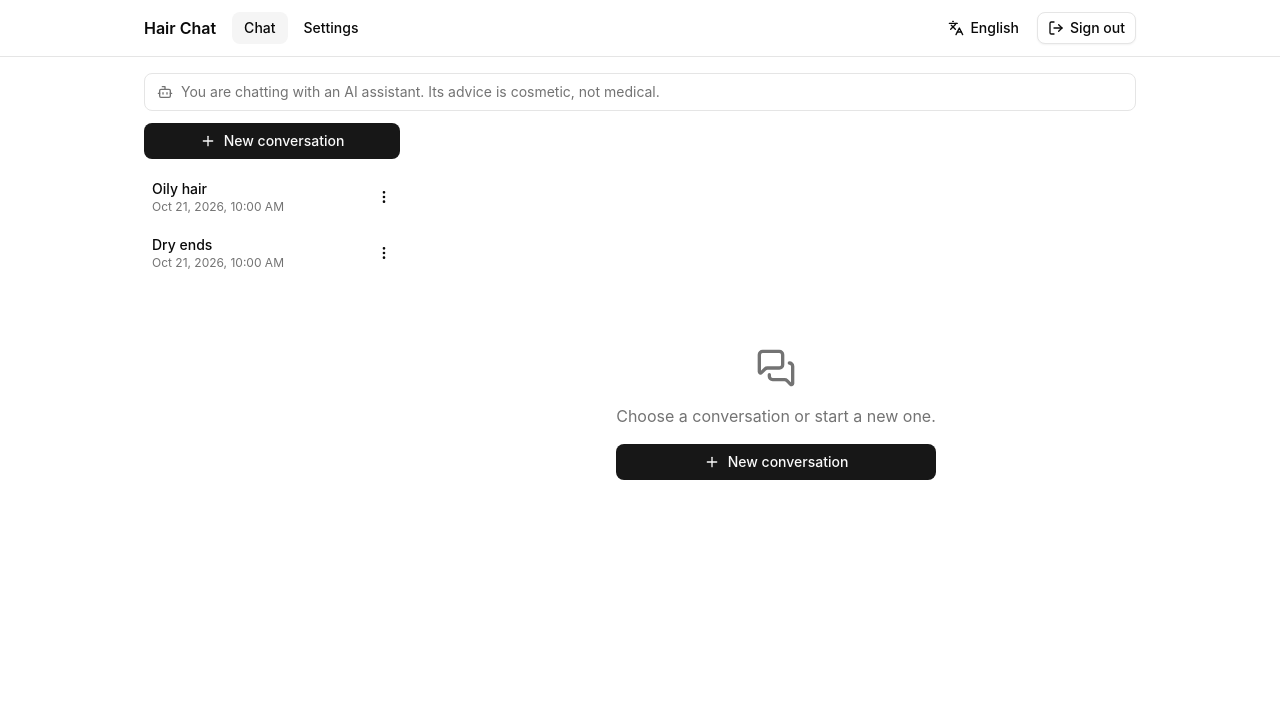
Test: delete a conversation › removes it from the list before the server answers
Expected: the link "Oily hair Oct 21, 2026, 10:00 AM" is shown, x1=152 y1=180 x2=284 y2=214
Click the button named "Actions for “Oily hair”": (384, 197) x1=368 y1=181 x2=400 y2=213
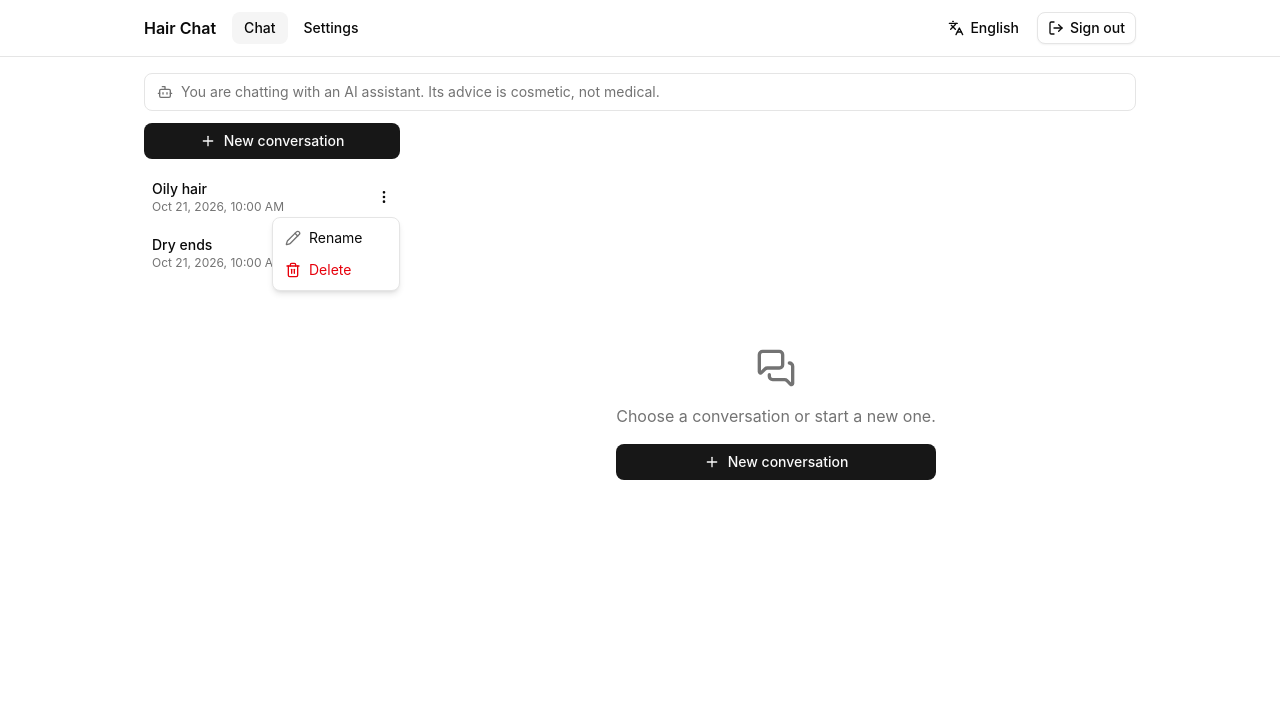
Click the menu item "Delete": (318, 270) x1=285 y1=261 x2=351 y2=278
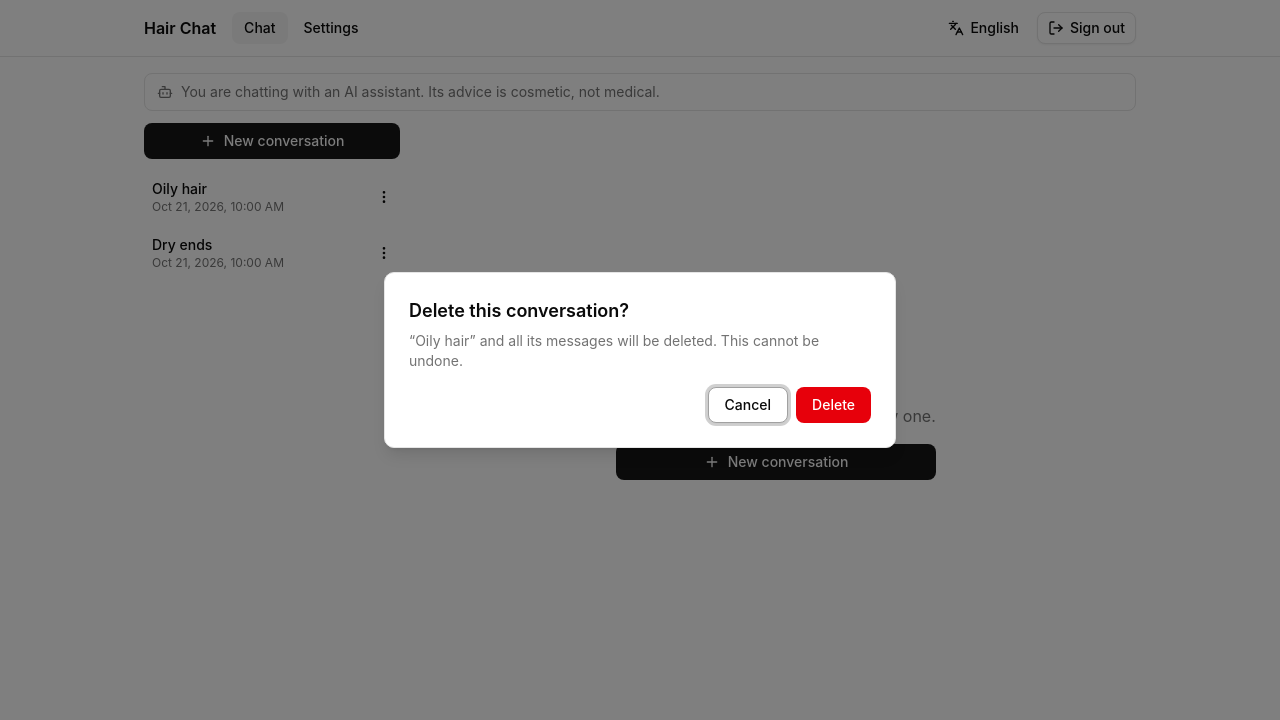
Click the button "Delete": (834, 405) x1=796 y1=387 x2=871 y2=423
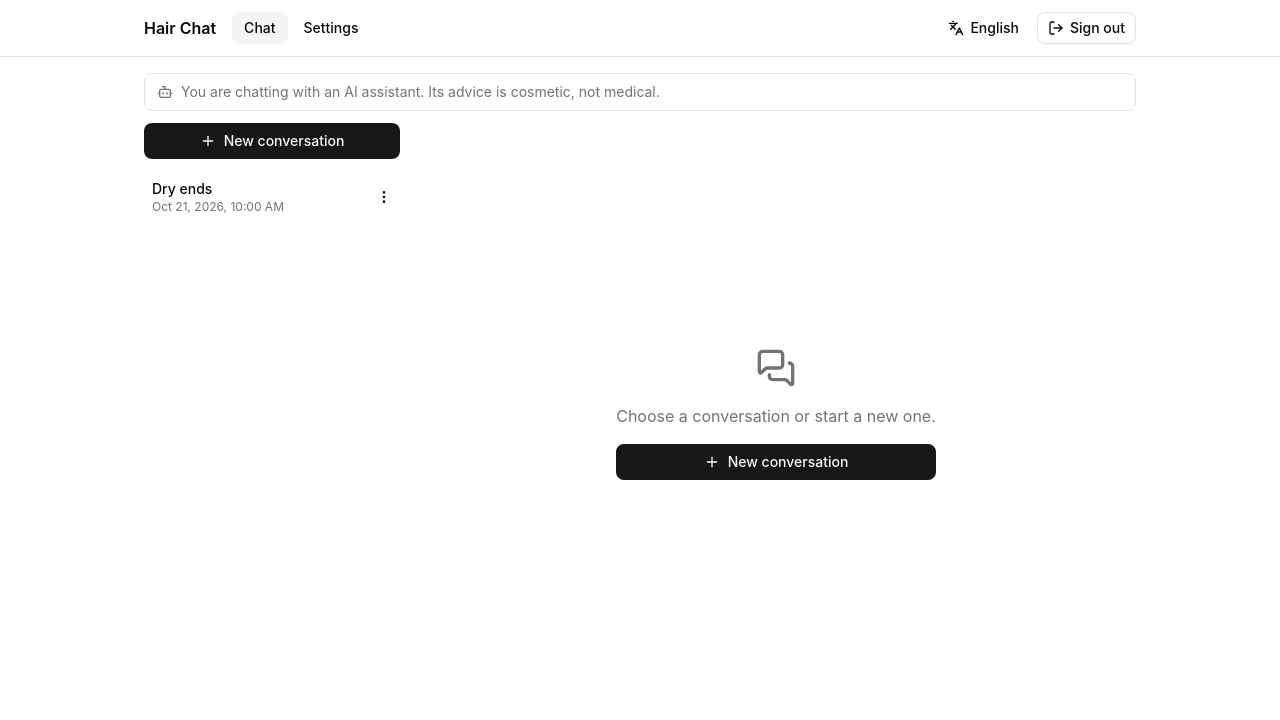
Now the link "Oily hair" is gone
